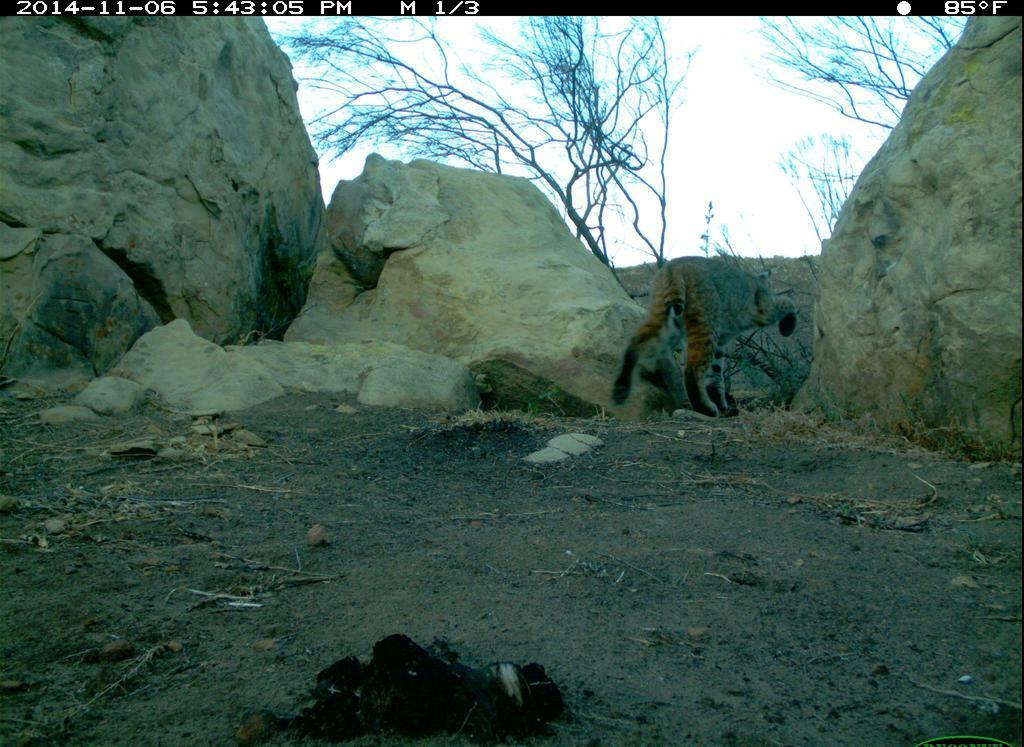bobcat: (614, 254, 807, 423)
